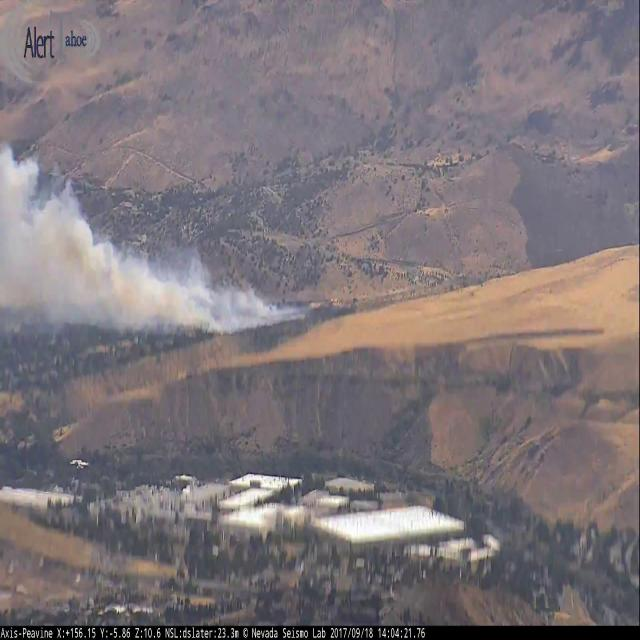smoke: (0, 136, 308, 327)
